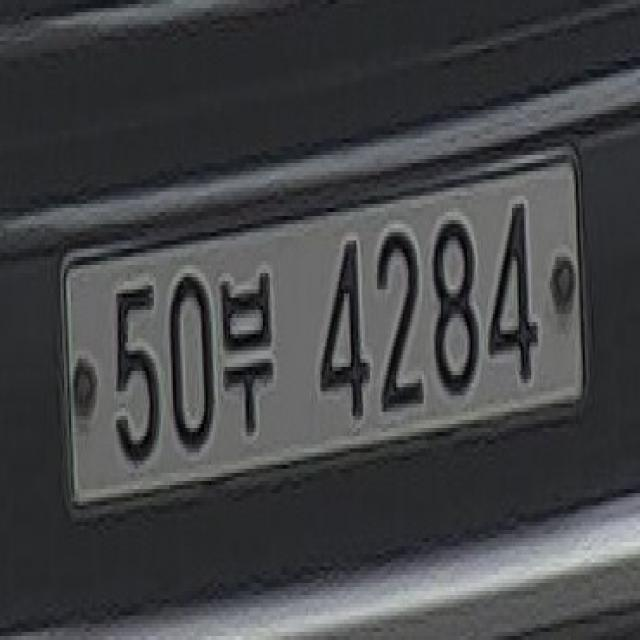0: (170, 268, 214, 458)
2: (378, 208, 426, 414)
4: (488, 186, 542, 394), (318, 229, 370, 427)
5: (114, 286, 161, 466)
8: (432, 197, 484, 405)
bu: (218, 259, 276, 447)
license_plate: (56, 127, 592, 526)
